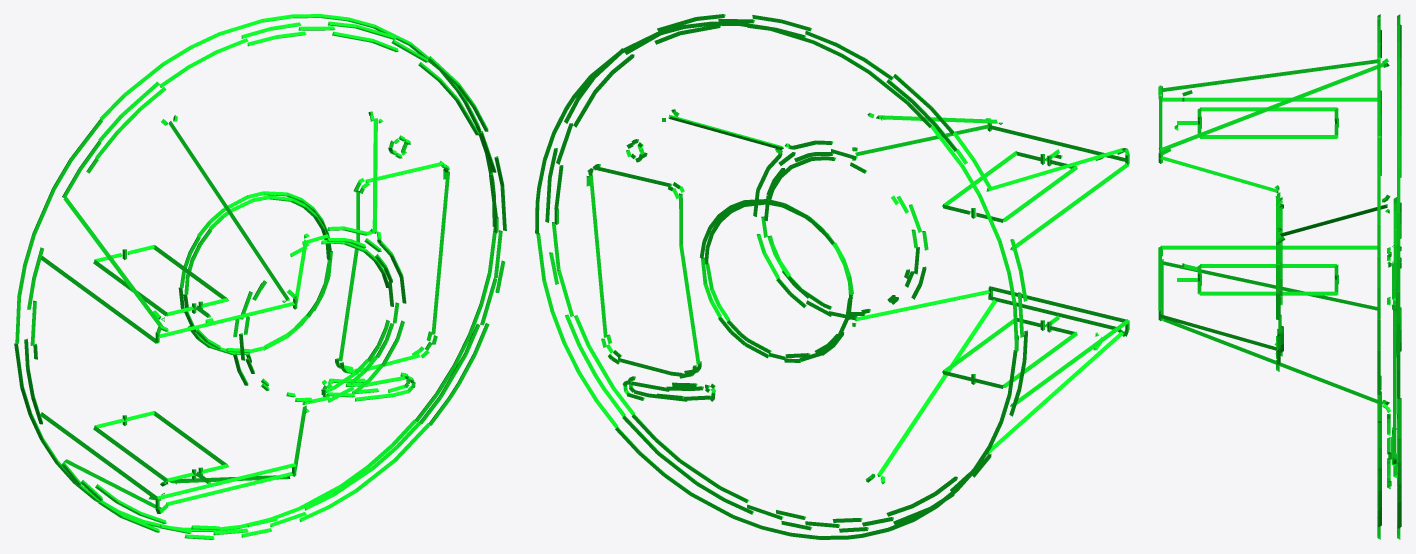
The model's file is VIS_TRACK.obj.
The picture shows the model from 3 angles, left to right: view 1: azimuth 30°, elevation 25°; view 2: azimuth 150°, elevation 25°; view 3: azimuth 270°, elevation 25°; orthographic projection. The views are drawn at different scales.
Bounding box in the file's own units: 16.12 × 16.12 × 7.44.
